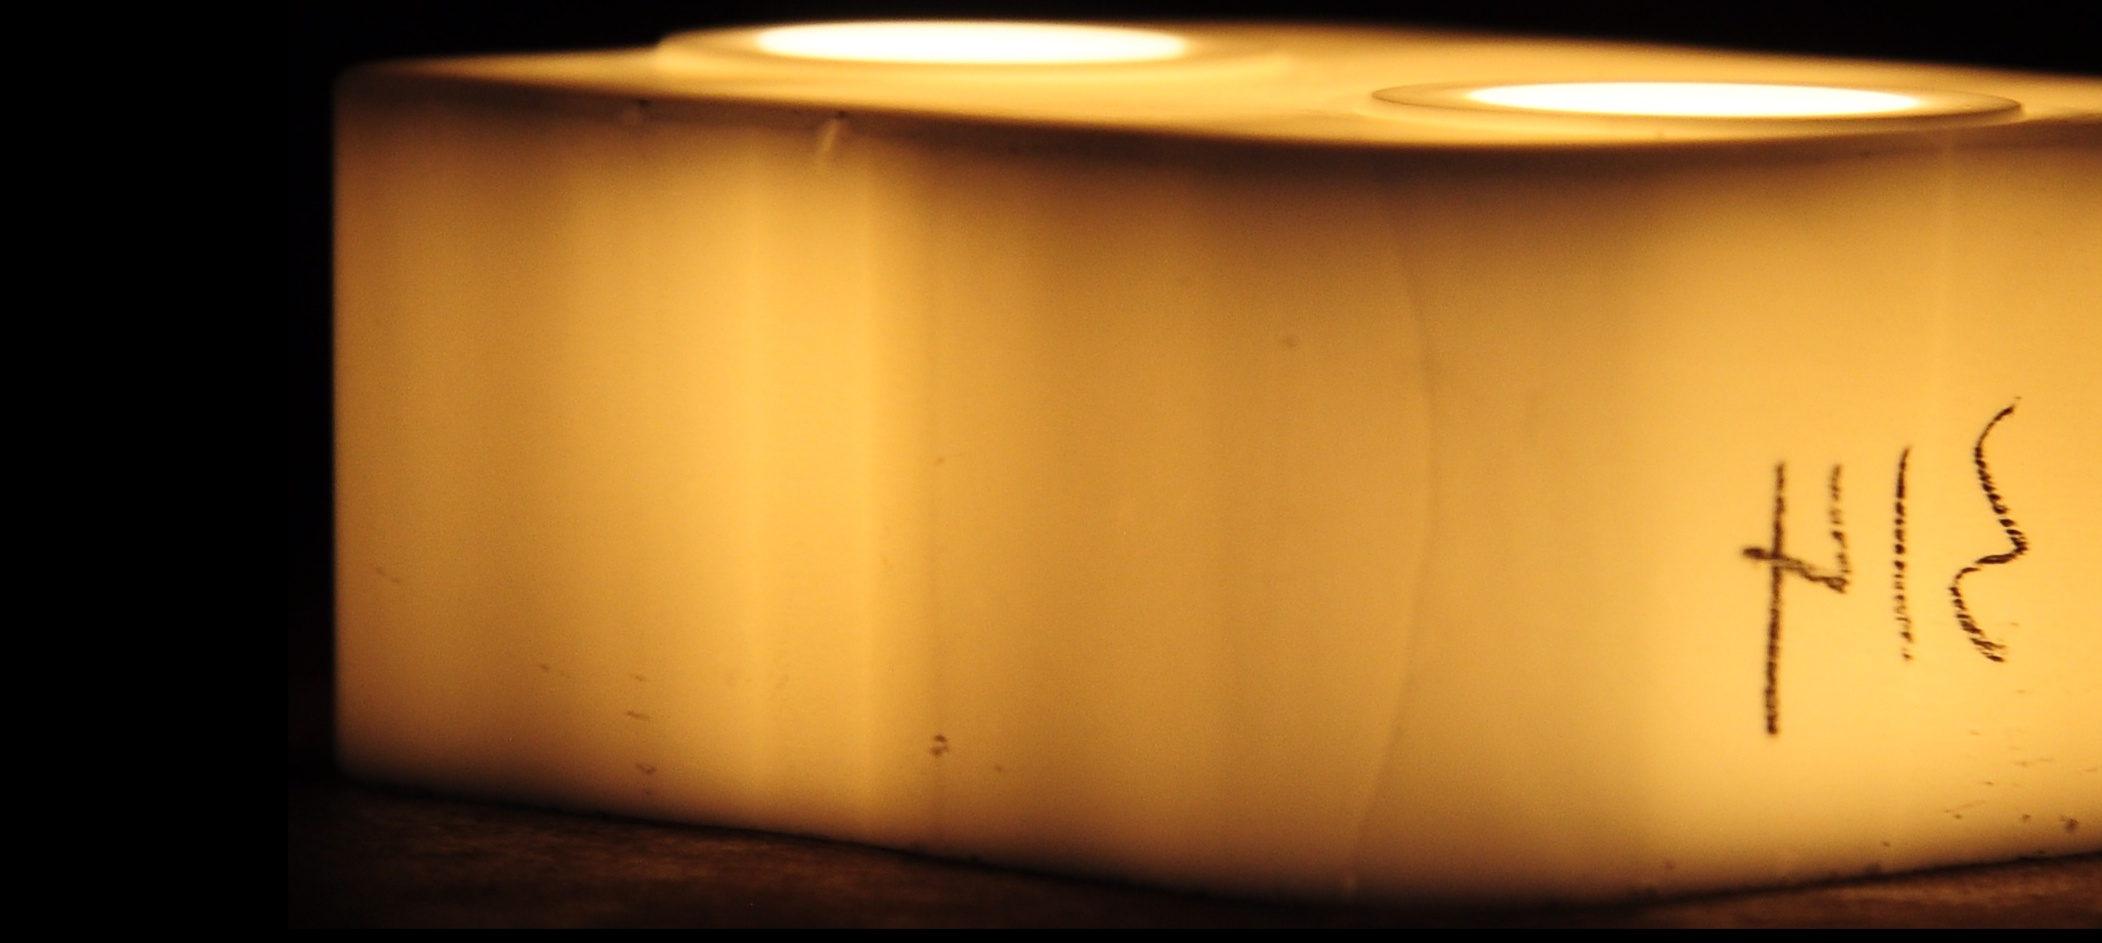flaw: (1327, 145, 1471, 881)
hiatus: (802, 101, 866, 170), (605, 89, 660, 135)
